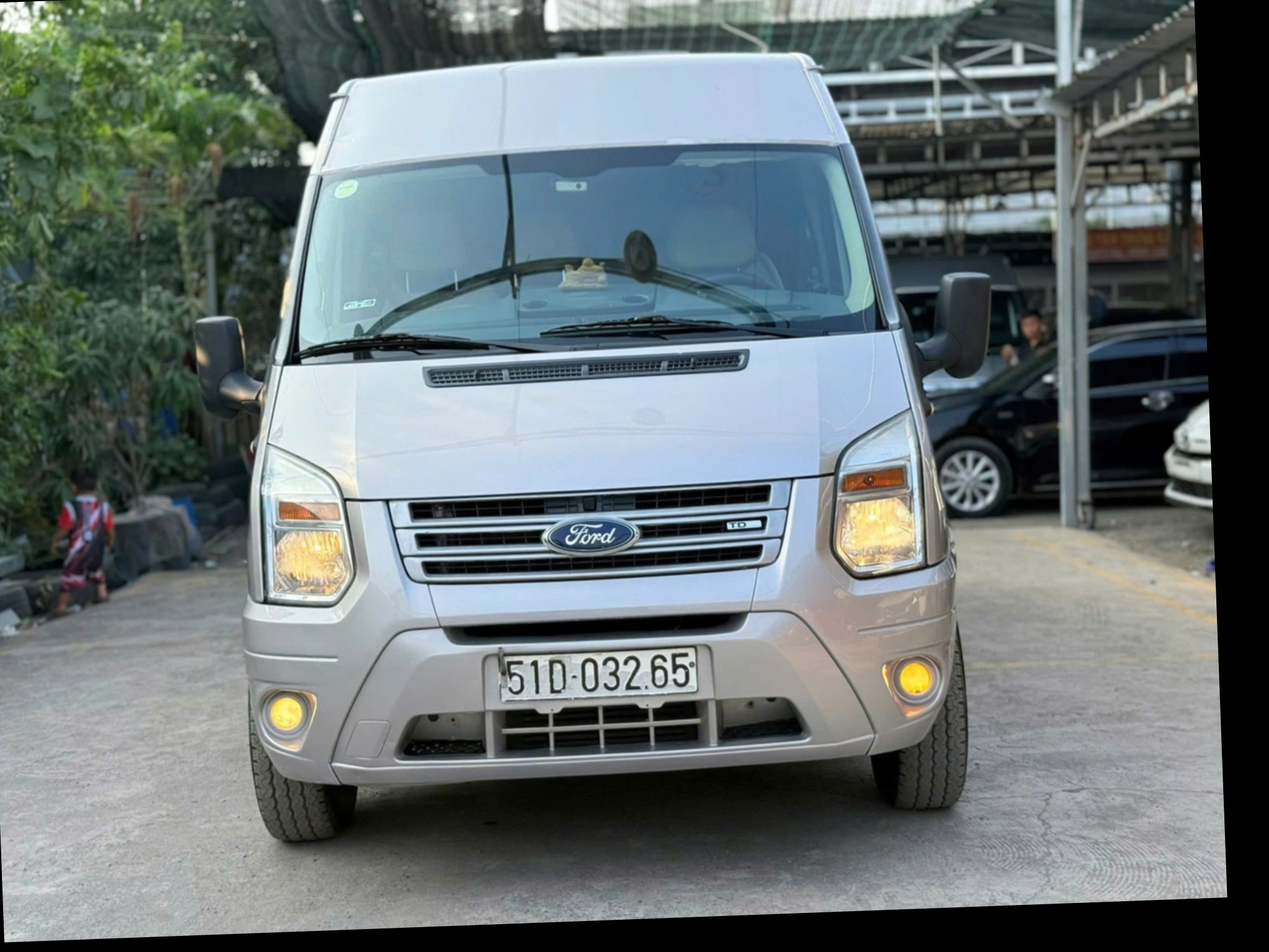Bien-so: (497, 649, 700, 697)
